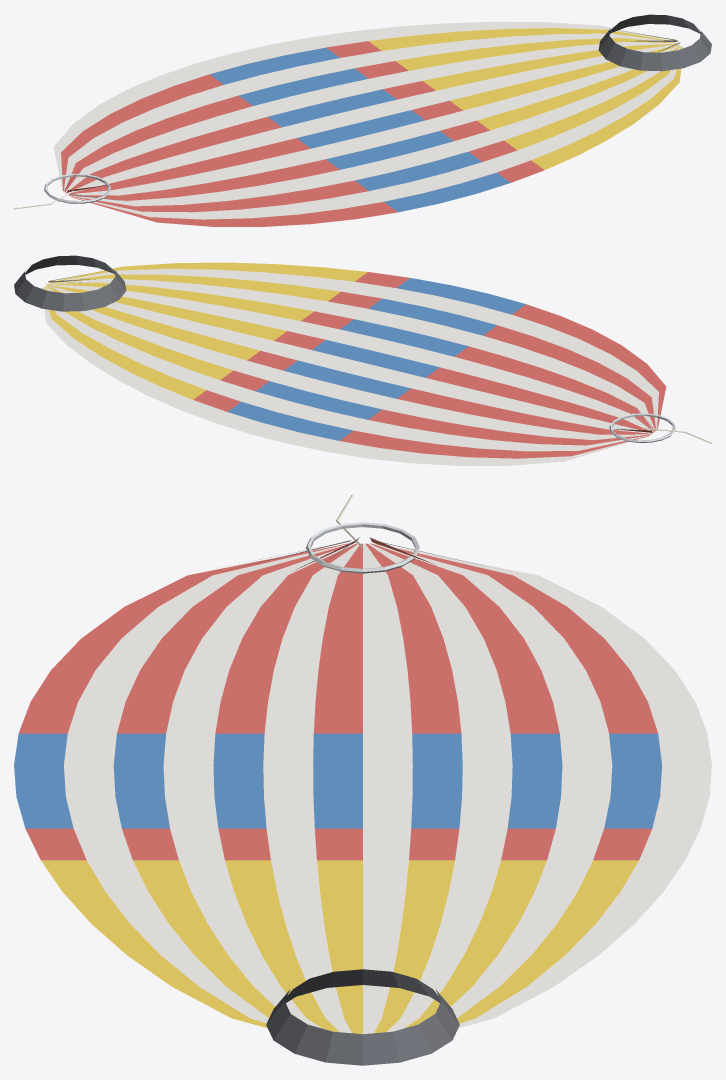
Rendered from hot-air-balloon-festival-balloon-envelope-laid-out-ef8d3a25__38471.glb.
3 views of the same model, one above another, from view 1: azimuth 30°, elevation 25°; view 2: azimuth 150°, elevation 25°; view 3: azimuth 270°, elevation 25° (orthographic). The views are drawn at different scales.
Visible parts, largest first — view 1: balloon-envelope-laid-out-canvasB, balloon-envelope-laid-out-canvasA, balloon-envelope-laid-out-canvasD, balloon-envelope-laid-out-canvasC, balloon-envelope-laid-out-charcoal, balloon-envelope-laid-out-steel; view 2: balloon-envelope-laid-out-canvasB, balloon-envelope-laid-out-canvasA, balloon-envelope-laid-out-canvasD, balloon-envelope-laid-out-canvasC, balloon-envelope-laid-out-charcoal, balloon-envelope-laid-out-steel; view 3: balloon-envelope-laid-out-canvasB, balloon-envelope-laid-out-canvasA, balloon-envelope-laid-out-canvasD, balloon-envelope-laid-out-canvasC, balloon-envelope-laid-out-charcoal, balloon-envelope-laid-out-steel.
Part boxes in pixels (x1,y1,x2,y2): balloon-envelope-laid-out-canvasB: [53, 21, 682, 219]; balloon-envelope-laid-out-canvasA: [61, 41, 544, 226]; balloon-envelope-laid-out-canvasD: [368, 28, 683, 169]; balloon-envelope-laid-out-canvasC: [210, 47, 510, 212]; balloon-envelope-laid-out-charcoal: [598, 14, 711, 71]; balloon-envelope-laid-out-steel: [44, 173, 110, 203]; balloon-envelope-laid-out-canvasB: [42, 269, 658, 465]; balloon-envelope-laid-out-canvasA: [193, 272, 666, 458]; balloon-envelope-laid-out-canvasD: [42, 262, 367, 399]; balloon-envelope-laid-out-canvasC: [228, 278, 525, 440]; balloon-envelope-laid-out-charcoal: [14, 255, 126, 311]; balloon-envelope-laid-out-steel: [609, 413, 675, 442]; balloon-envelope-laid-out-canvasB: [64, 537, 711, 1034]; balloon-envelope-laid-out-canvasA: [18, 537, 657, 860]; balloon-envelope-laid-out-canvasD: [41, 860, 638, 1034]; balloon-envelope-laid-out-canvasC: [14, 733, 661, 828]; balloon-envelope-laid-out-charcoal: [266, 969, 459, 1065]; balloon-envelope-laid-out-steel: [306, 522, 419, 573].
Size of the model in its own units: 26.07 by 0.6166 by 13.4.
